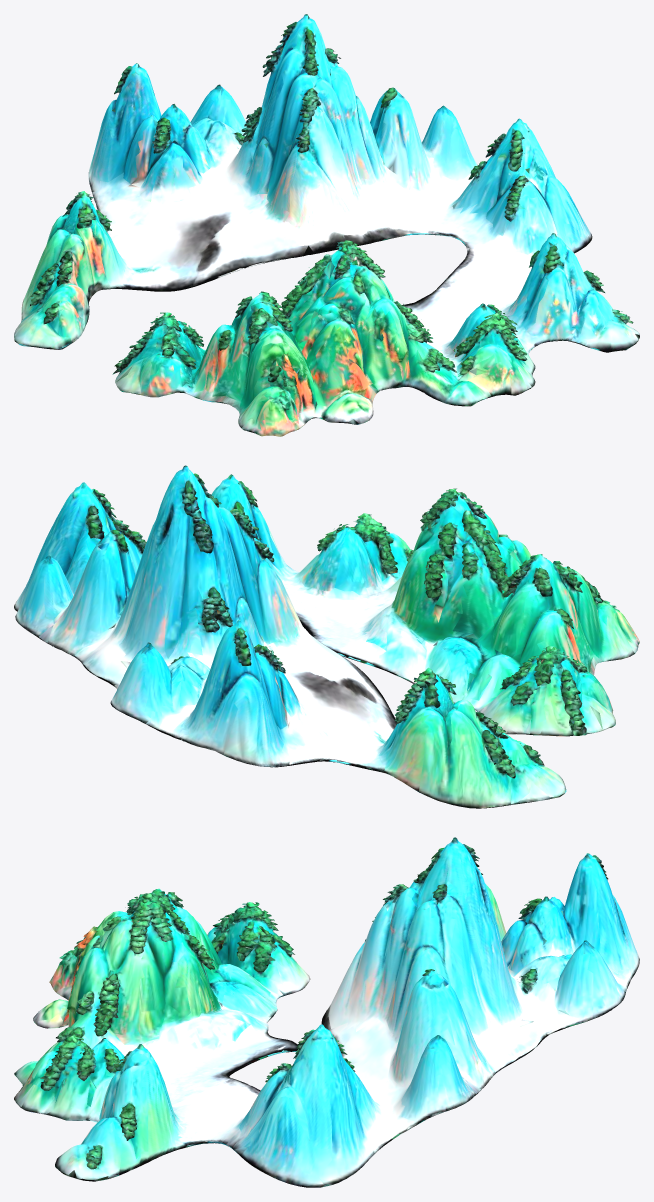
Rendered from ql_mount2.glb.
3 renders of one model, top to bottom at view 1: azimuth 30°, elevation 25°; view 2: azimuth 150°, elevation 25°; view 3: azimuth 270°, elevation 25°, orthographic. The views are drawn at different scales.
Visible parts, largest first — view 1: ql_mount2; view 2: ql_mount2; view 3: ql_mount2.
Part boxes in pixels (x1,y1,x2,y2): ql_mount2: (14,14,639,436); ql_mount2: (14,465,639,808); ql_mount2: (14,837,639,1187).
Size of the model in its own units: 69.85 by 30 by 66.05.
Materials: 1 (1 with a texture image).
